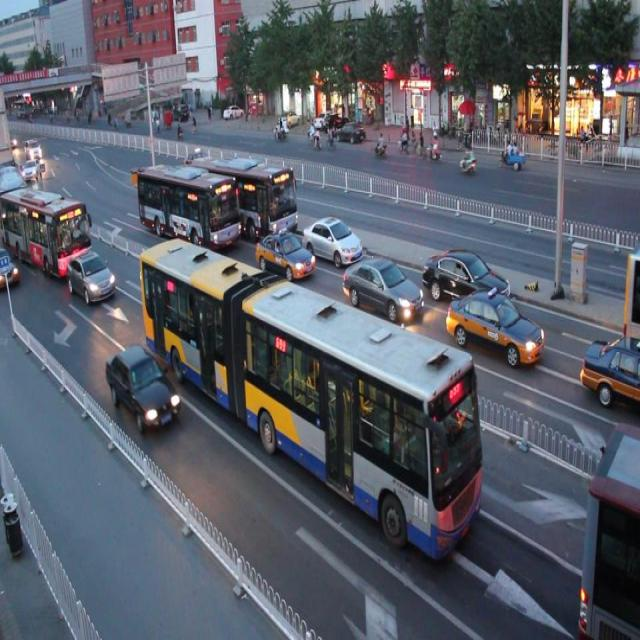car: (445, 289, 544, 363), (106, 340, 182, 436), (422, 247, 508, 308), (341, 260, 423, 322), (580, 331, 640, 403), (253, 226, 315, 282), (299, 217, 366, 267), (65, 251, 116, 307), (1, 245, 21, 293), (153, 167, 182, 191), (184, 146, 210, 170)
van: (138, 240, 480, 564), (578, 423, 640, 628), (136, 162, 242, 250), (193, 152, 298, 240), (1, 190, 92, 284)
